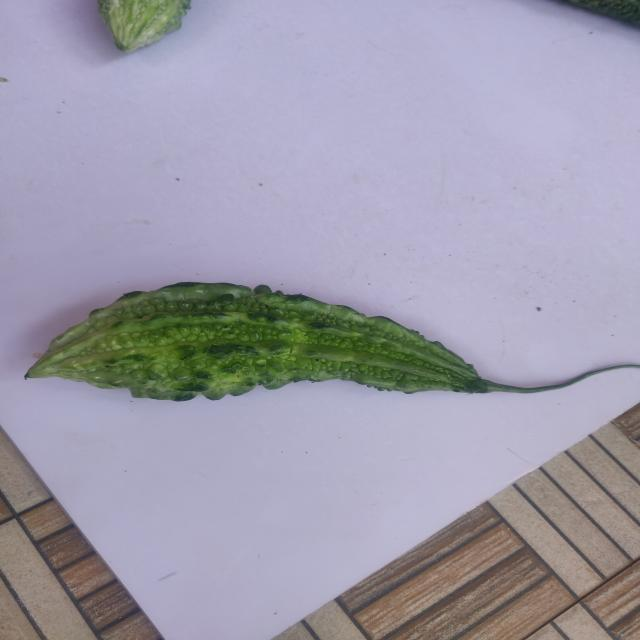Bitter Gourd: (17, 272, 607, 418)
